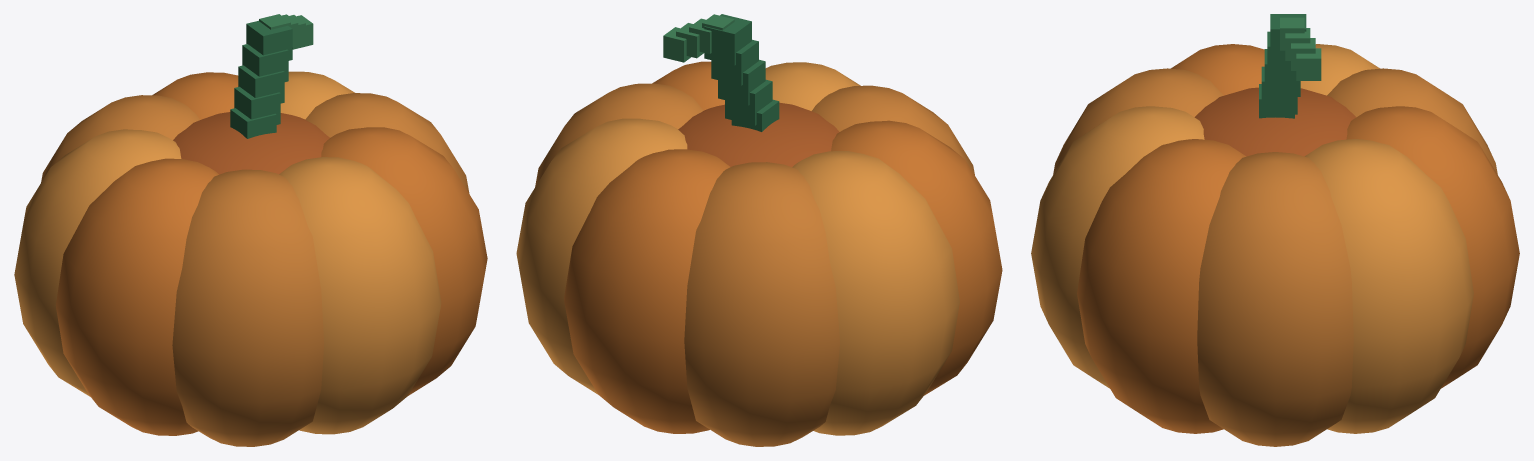
Rendered from CMU3DRibbedPumpkin.glb.
3 views of the same model, side by side, from view 1: azimuth 30°, elevation 25°; view 2: azimuth 150°, elevation 25°; view 3: azimuth 270°, elevation 25° (orthographic). The views are drawn at different scales.
Visible parts, largest first — view 1: pumpkin rib (×9), pumpkin inner flesh, crooked pumpkin stem (×5); view 2: pumpkin rib (×9), pumpkin inner flesh, crooked pumpkin stem (×5), bent pumpkin stem tip (×2); view 3: pumpkin rib (×9), pumpkin inner flesh, crooked pumpkin stem (×4), bent pumpkin stem tip (×2).
Part boxes in pixels (<box>): pumpkin rib (×9): <box>14,71,487,446</box>; pumpkin inner flesh: <box>173,112,329,174</box>; crooked pumpkin stem (×5): <box>230,20,292,138</box>; pumpkin rib (×9): <box>516,61,1002,446</box>; pumpkin inner flesh: <box>678,102,839,167</box>; crooked pumpkin stem (×5): <box>704,14,779,131</box>; bent pumpkin stem tip (×2): <box>663,23,703,62</box>; pumpkin rib (×9): <box>1031,44,1519,446</box>; pumpkin inner flesh: <box>1194,87,1356,156</box>; crooked pumpkin stem (×4): <box>1261,14,1306,114</box>; bent pumpkin stem tip (×2): <box>1280,17,1321,80</box>.
Bounding box in the file's own units: 0.7128 × 0.5916 × 0.6907.
